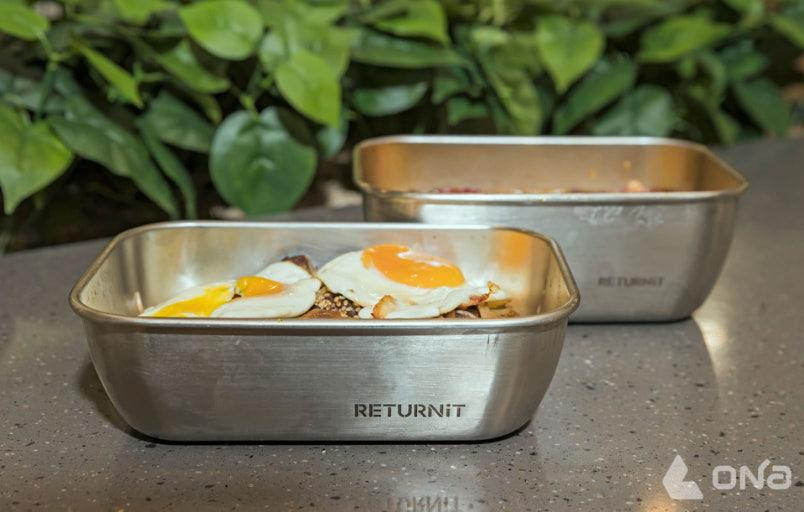Lunch Box: (70, 221, 579, 440), (353, 135, 746, 321)
